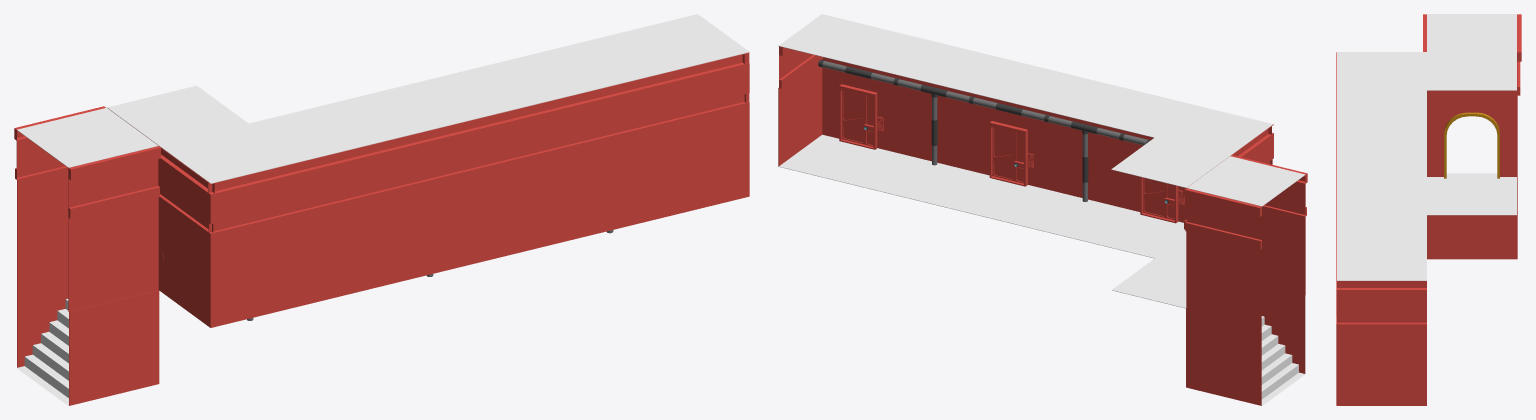
File: Jonas_Apt_Hallway_Interior.fbx
3 views of the same model, side by side, from view 1: azimuth 30°, elevation 25°; view 2: azimuth 150°, elevation 25°; view 3: azimuth 270°, elevation 25° (orthographic). The views are drawn at different scales.
Parts seen in each view (by area): view 1: BrickWallLight_Window_V1_1.050, BrickWallLight_Window_V1_1.043, BrickWallLight_Window_V1_1.046, BrickWallLight_Window_V1_1.041, BrickWallLight_Window_V1_1.045, BrickWallLight_Window_V1_1.042, BrickWallLight_Window_V1_1.044, BrickWallLight_Window_V1_1.049, BrickWallLight_Window_V1_1.047, BrickWallLight_Window_V1_1.056, Metal_Panel_V1_4.118, Floor.011 (+17 smaller); view 2: BrickWallLight_Window_V1_1.057, BrickWallLight_Window_V1_1.056, BrickWallLight_Window_V1_1.042, BrickWallLight_Window_V1_1.044, BrickWallLight_Window_V1_1.049, BrickWallLight_Window_V1_1.048, Metal_Panel_V1_4.123, Floor.013, Floor.014, BrickWallLight_Window_V1_1.041, Floor.010, Floor.003 (+25 smaller); view 3: BrickWallLight_Window_V1_1.048, Metal_Panel_V1_4.121, BrickWallLight_Window_V1_1.058, Metal_Panel_V1_4.124, Floor.003, Floor.005, Floor.007, Floor.009, Floor.010, Floor.011, Floor.013, Floor.012 (+4 smaller).
Boxes of the visible parts, bbox=[...] form: BrickWallLight_Window_V1_1.050: bbox=[69, 290, 159, 405]; BrickWallLight_Window_V1_1.043: bbox=[210, 212, 300, 327]; BrickWallLight_Window_V1_1.046: bbox=[300, 190, 390, 305]; BrickWallLight_Window_V1_1.041: bbox=[659, 102, 749, 218]; BrickWallLight_Window_V1_1.045: bbox=[480, 146, 569, 262]; BrickWallLight_Window_V1_1.042: bbox=[570, 124, 659, 240]; BrickWallLight_Window_V1_1.044: bbox=[390, 168, 479, 283]; BrickWallLight_Window_V1_1.049: bbox=[68, 197, 158, 311]; BrickWallLight_Window_V1_1.047: bbox=[158, 197, 210, 327]; BrickWallLight_Window_V1_1.056: bbox=[17, 167, 68, 273]; Metal_Panel_V1_4.118: bbox=[68, 146, 160, 218]; Floor.011: bbox=[159, 123, 300, 183]; BrickWallLight_Window_V1_1.057: bbox=[1186, 309, 1261, 405]; BrickWallLight_Window_V1_1.056: bbox=[1186, 231, 1261, 326]; BrickWallLight_Window_V1_1.042: bbox=[897, 76, 972, 171]; BrickWallLight_Window_V1_1.044: bbox=[1048, 112, 1123, 207]; BrickWallLight_Window_V1_1.049: bbox=[1261, 206, 1305, 295]; BrickWallLight_Window_V1_1.048: bbox=[778, 59, 822, 166]; Metal_Panel_V1_4.123: bbox=[1184, 188, 1261, 249]; Floor.013: bbox=[1111, 137, 1229, 187]; Floor.014: bbox=[1187, 156, 1305, 206]; BrickWallLight_Window_V1_1.041: bbox=[822, 58, 897, 152]; Floor.010: bbox=[1079, 87, 1197, 137]; Floor.003: bbox=[778, 14, 896, 64]; BrickWallLight_Window_V1_1.048: bbox=[1337, 324, 1426, 405]; Metal_Panel_V1_4.121: bbox=[1427, 97, 1516, 178]; BrickWallLight_Window_V1_1.058: bbox=[1427, 215, 1516, 259]; Metal_Panel_V1_4.124: bbox=[1337, 281, 1426, 323]; Floor.003: bbox=[1337, 242, 1426, 280]; Floor.005: bbox=[1337, 204, 1426, 242]; Floor.007: bbox=[1337, 166, 1426, 204]; Floor.009: bbox=[1337, 128, 1426, 166]; Floor.010: bbox=[1337, 90, 1426, 128]; Floor.011: bbox=[1337, 52, 1426, 90]; Floor.013: bbox=[1427, 52, 1516, 90]; Floor.012: bbox=[1427, 177, 1516, 215].
Bounding box in the file's own units: 1402 × 507 × 411.
Materials: 14 (3 with a texture image).
